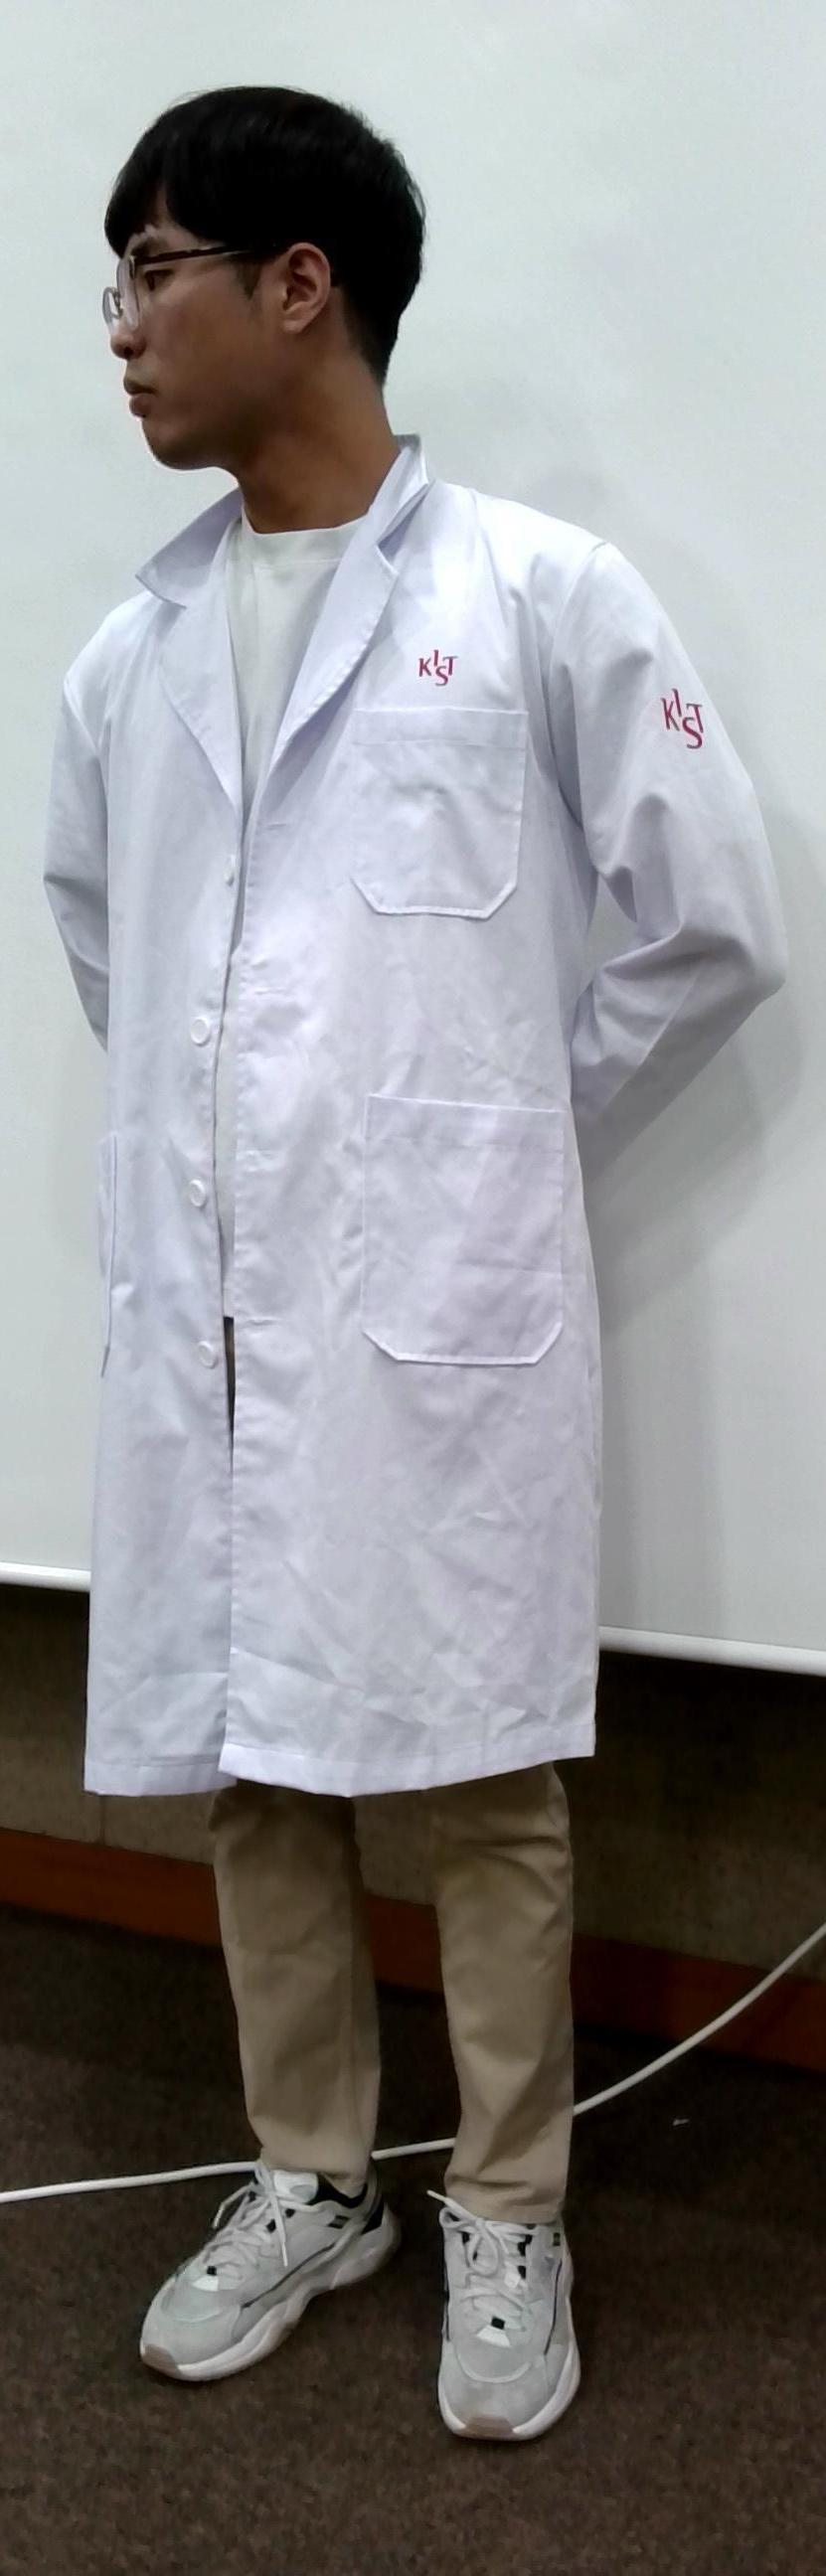lab_coat: (56, 542, 622, 1756)
